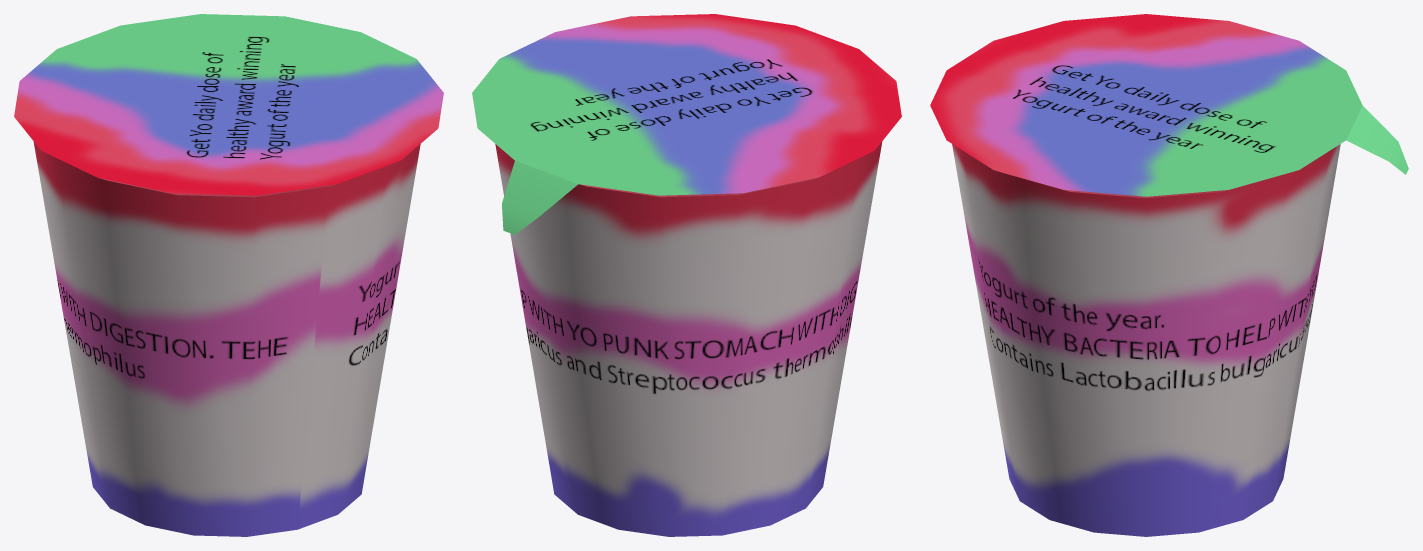
File: Yoghurt.fbx
The picture shows the model from 3 angles, left to right: view 1: azimuth 30°, elevation 25°; view 2: azimuth 150°, elevation 25°; view 3: azimuth 270°, elevation 25°; orthographic projection.
Parts seen in each view (by area): view 1: Cylinder; view 2: Cylinder; view 3: Cylinder.
Part boxes in pixels (bbox=[...]): Cylinder: bbox=[14, 14, 443, 536]; Cylinder: bbox=[472, 14, 901, 536]; Cylinder: bbox=[930, 14, 1408, 536].
Bounding box in the file's own units: 217 × 207 × 240.
